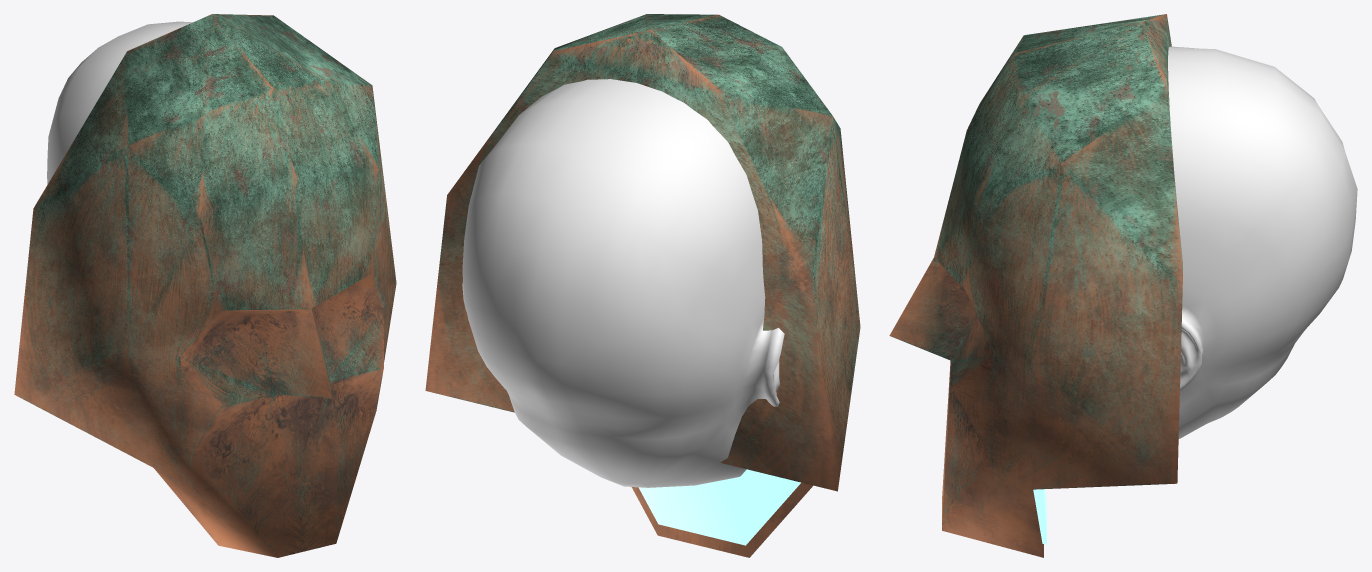
The model's file is heady3r3surg3nc3.glb.
3 renders of one model, left to right at view 1: azimuth 30°, elevation 25°; view 2: azimuth 150°, elevation 25°; view 3: azimuth 270°, elevation 25°, orthographic. The views are drawn at different scales.
Visible parts, largest first — view 1: heady_old.001, heady_new.001; view 2: heady_new.001, heady_old.001, heady_glow.001; view 3: heady_old.001, heady_new.001.
Boxes of the visible parts, box(x1,y1,x2,y2) form: heady_old.001: box(14, 14, 396, 557); heady_new.001: box(47, 21, 192, 184); heady_new.001: box(462, 79, 784, 487); heady_old.001: box(425, 14, 860, 557); heady_glow.001: box(638, 469, 800, 545); heady_old.001: box(889, 14, 1182, 557); heady_new.001: box(1168, 46, 1357, 438).
Bounding box in the file's own units: 1.56 × 2.01 × 1.65.
3 materials, 1 textured.
